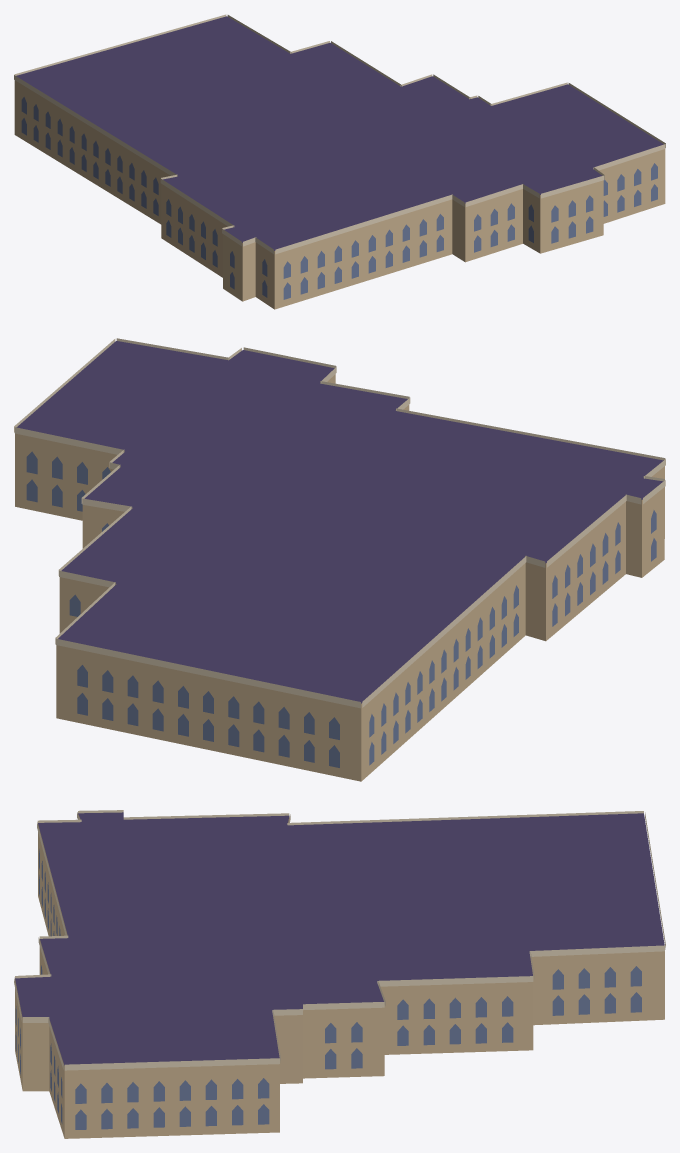
The model's file is core-law-school-day.glb.
3 renders of one model, top to bottom at view 1: azimuth 30°, elevation 25°; view 2: azimuth 150°, elevation 25°; view 3: azimuth 270°, elevation 25°, orthographic. The views are drawn at different scales.
Parts seen in each view (by area): view 1: campus/core-law-school-day-0; view 2: campus/core-law-school-day-0; view 3: campus/core-law-school-day-0.
Boxes of the visible parts, <box> form: campus/core-law-school-day-0: <box>14,14,665,309</box>; campus/core-law-school-day-0: <box>14,338,665,781</box>; campus/core-law-school-day-0: <box>14,810,665,1138</box>.
Size of the model in its own units: 69.02 by 9.45 by 74.7.
